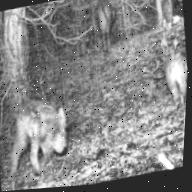boar: (0, 30, 93, 192), (138, 19, 190, 125)
